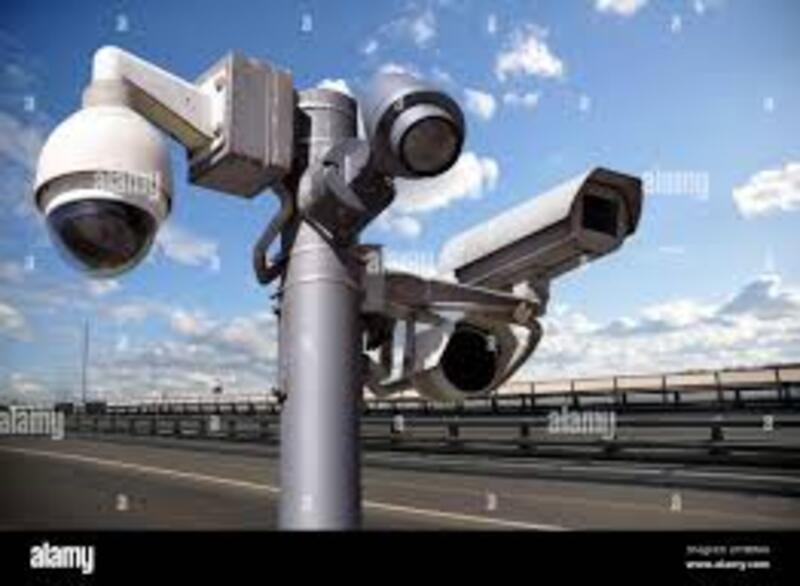box: (436, 240, 642, 335)
dome: (28, 111, 178, 285)
